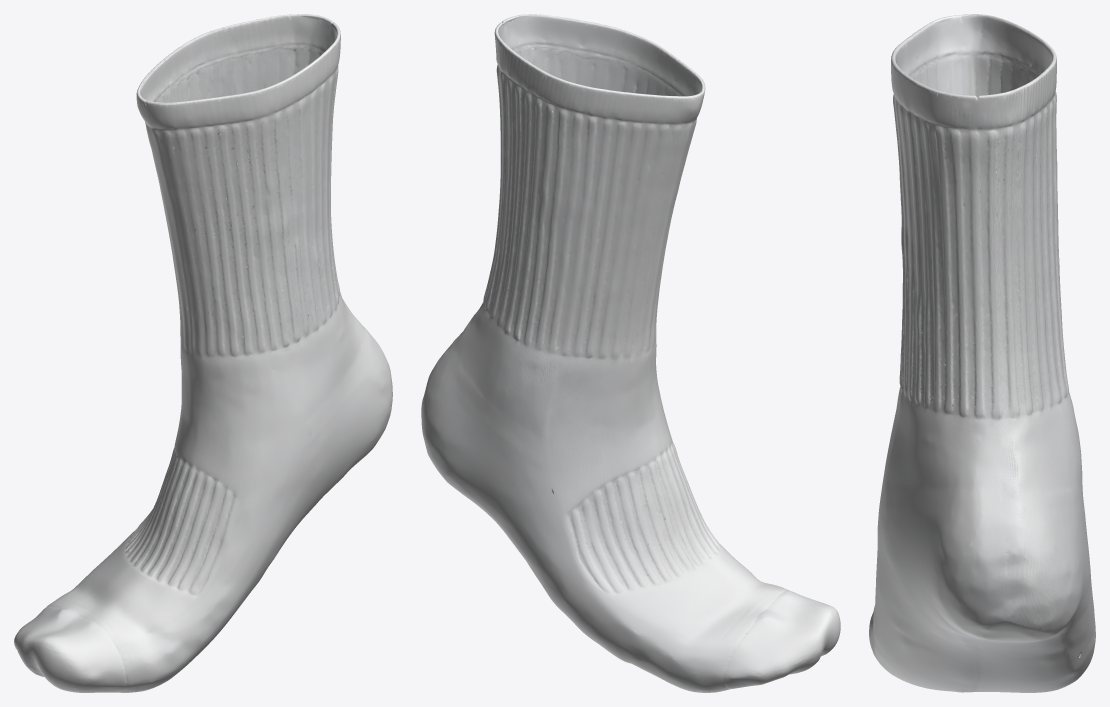
The model's file is kaos kaki bagus.glb.
3 views of the same model, side by side, from view 1: azimuth 30°, elevation 25°; view 2: azimuth 150°, elevation 25°; view 3: azimuth 270°, elevation 25° (orthographic). The views are drawn at different scales.
Size of the model in its own units: 1.24 by 1.9 by 0.5444.
1 material, 1 textured.
